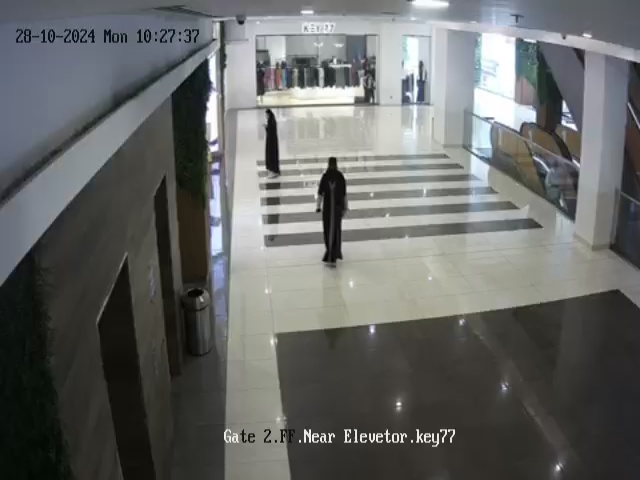female: (315, 157, 349, 268), (261, 108, 283, 175)
